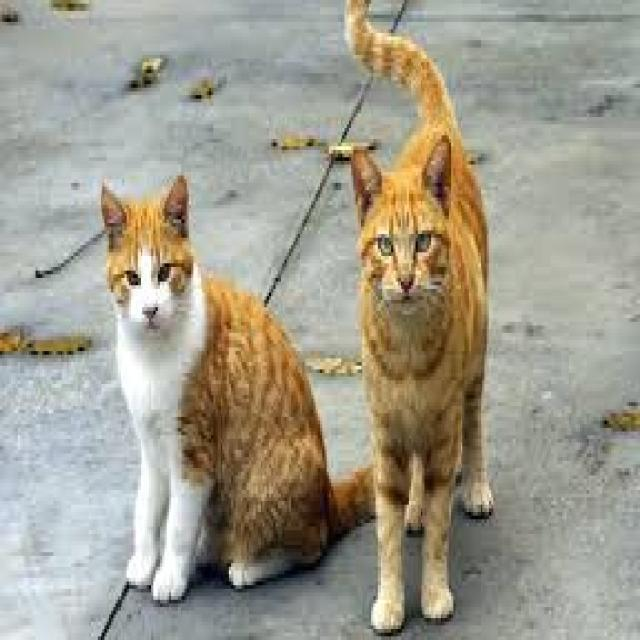cat: (96, 180, 373, 607), (342, 0, 493, 636)
